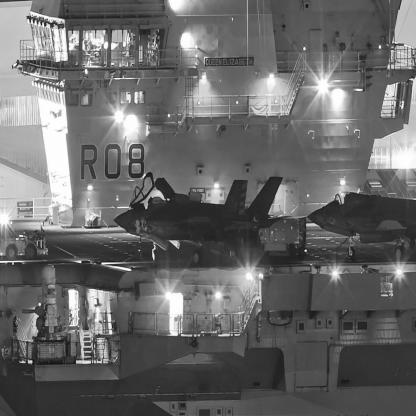F35: (114, 173, 295, 266), (308, 192, 416, 262)
